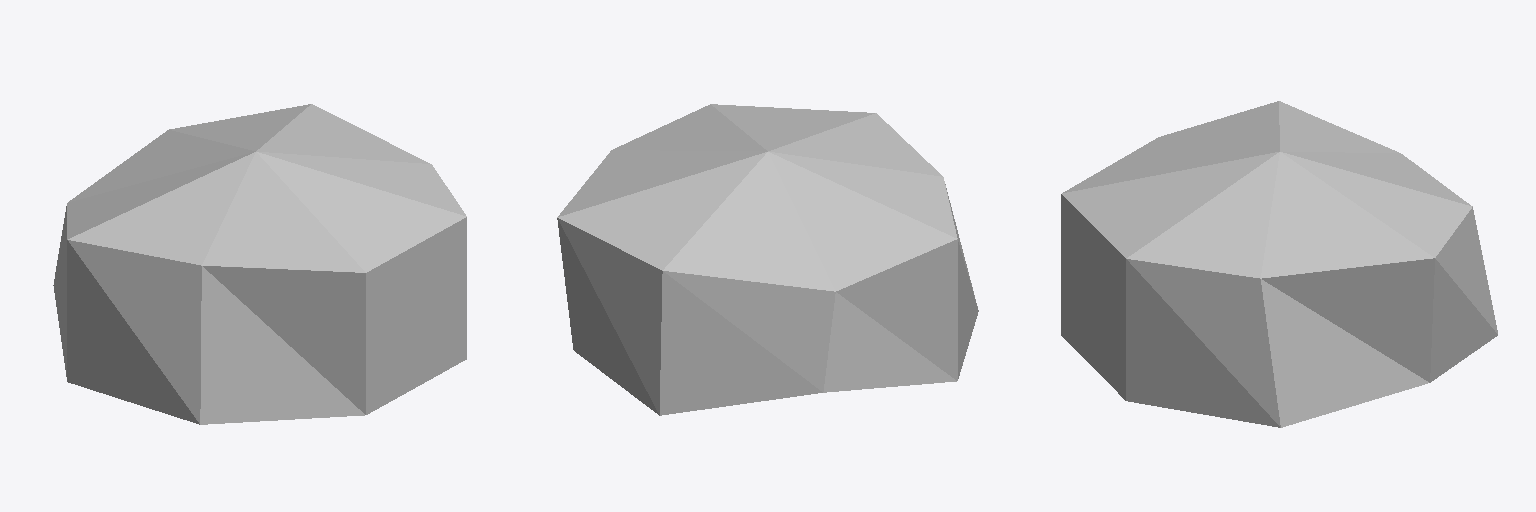
File: rock4.obj
3 renders of one model, left to right at view 1: azimuth 30°, elevation 25°; view 2: azimuth 150°, elevation 25°; view 3: azimuth 270°, elevation 25°, orthographic.
Parts seen in each view (by area): view 1: Rock8.001_Cylinder.047; view 2: Rock8.001_Cylinder.047; view 3: Rock8.001_Cylinder.047.
Boxes of the visible parts, box(x1,y1,x2,y2) form: Rock8.001_Cylinder.047: box(53, 104, 466, 424); Rock8.001_Cylinder.047: box(557, 104, 978, 415); Rock8.001_Cylinder.047: box(1061, 101, 1497, 427).
Bounding box in the file's own units: 1.54 × 0.8124 × 1.54.